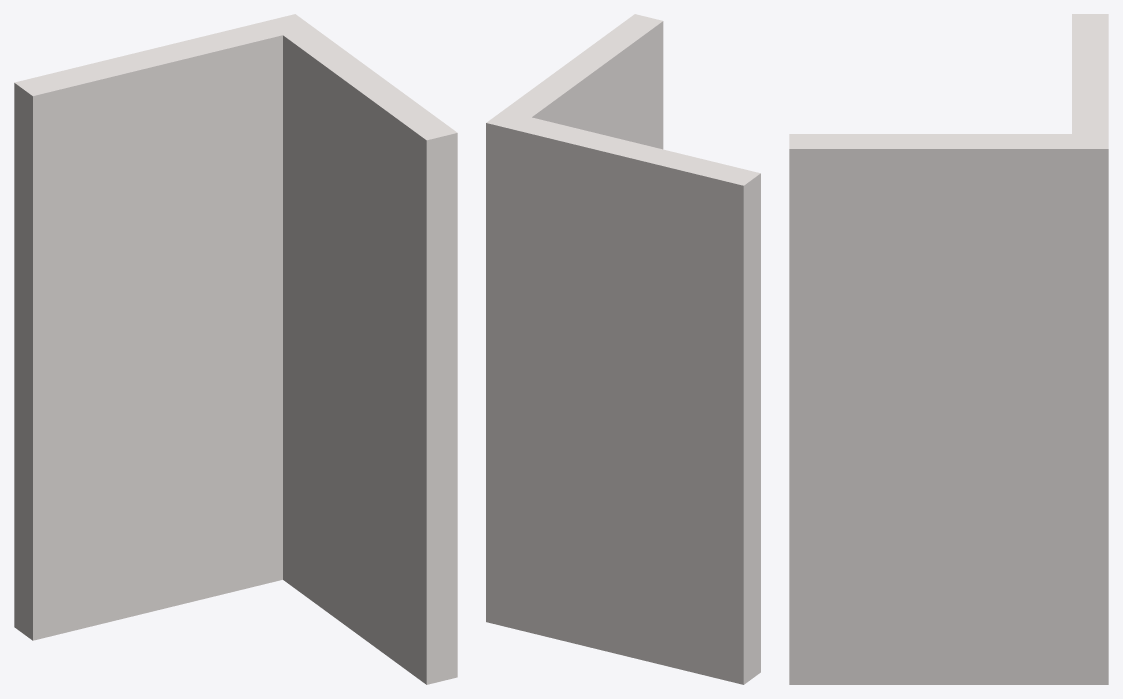
Rendered from Wall_20.fbx.
3 renders of one model, left to right at view 1: azimuth 30°, elevation 25°; view 2: azimuth 150°, elevation 25°; view 3: azimuth 270°, elevation 25°, orthographic. The views are drawn at different scales.
Parts seen in each view (by area): view 1: Wall_20; view 2: Wall_20; view 3: Wall_20.
Boxes of the visible parts, <box> form: Wall_20: <box>14,14,457,684</box>; Wall_20: <box>486,14,760,684</box>; Wall_20: <box>789,14,1108,684</box>.
Size of the model in its own units: 140 by 259 by 140.
